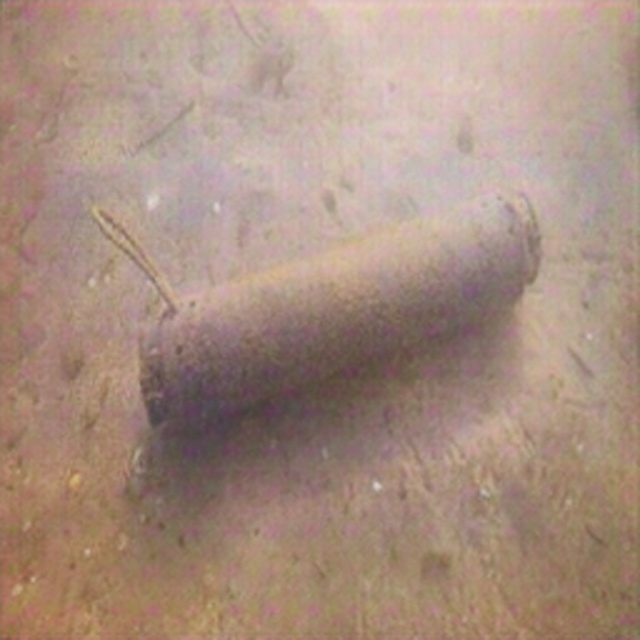mine: (138, 188, 542, 431)
